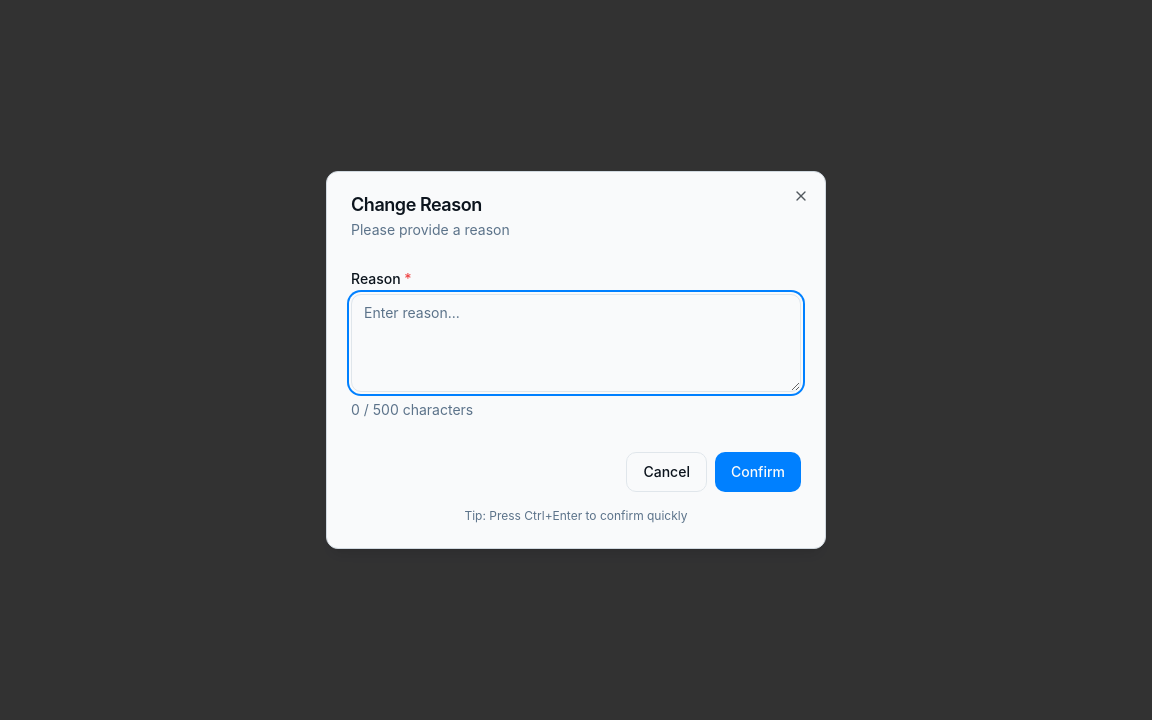
Test case: AuditReasonDialog › clears error on input change
Trigger error
Click the button "Confirm": x=758, y=472 [715,452,801,492]
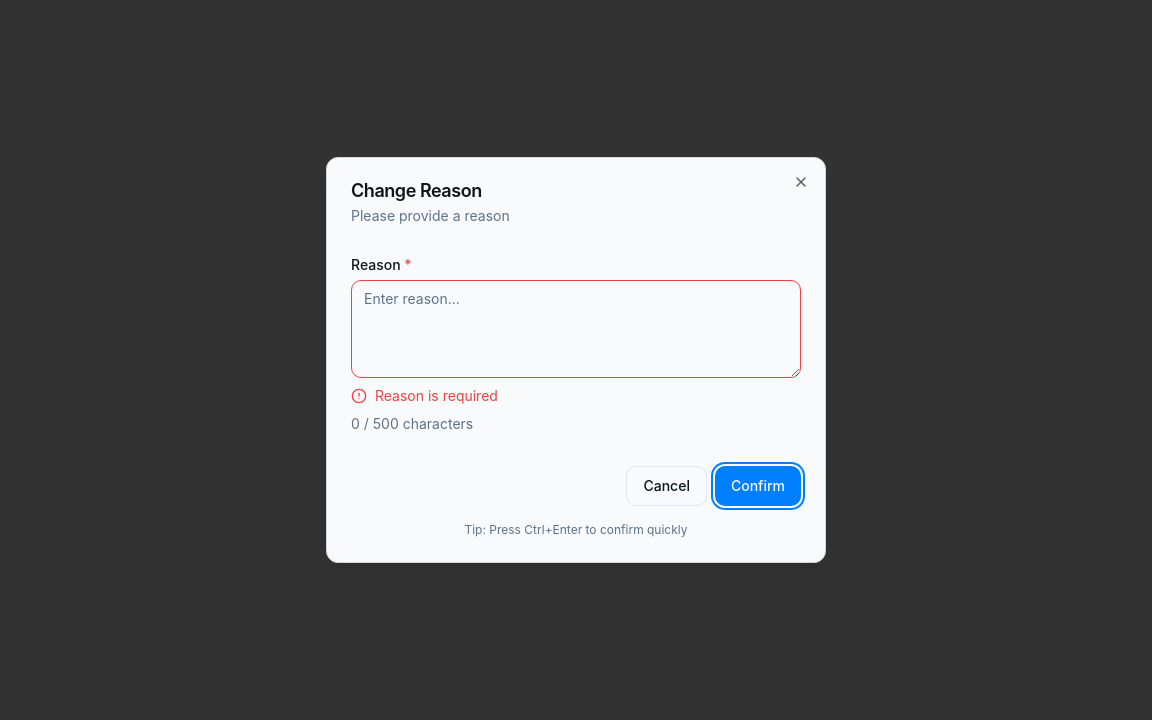
Now the text "Reason is required" is shown, box [375,386,498,406]
Type to clear error
In the text box with placeholder "Enter reason...": x=576, y=329 [351,280,801,378], type "Test"
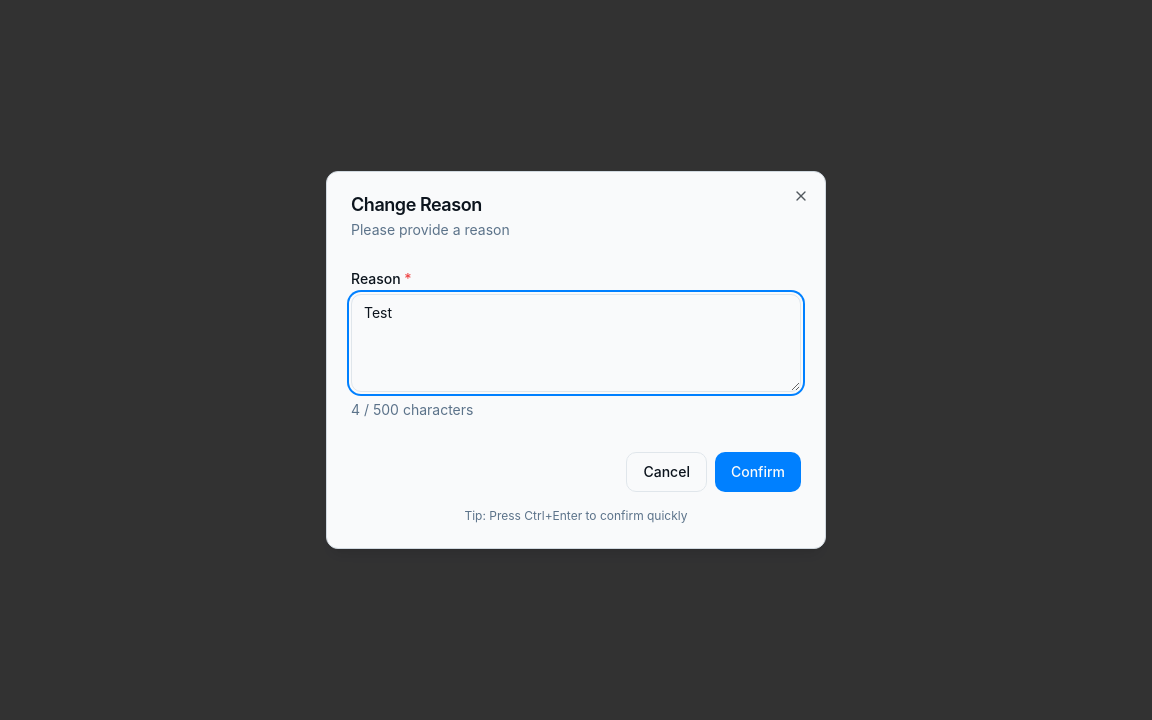
Now the text "Reason is required" is gone
